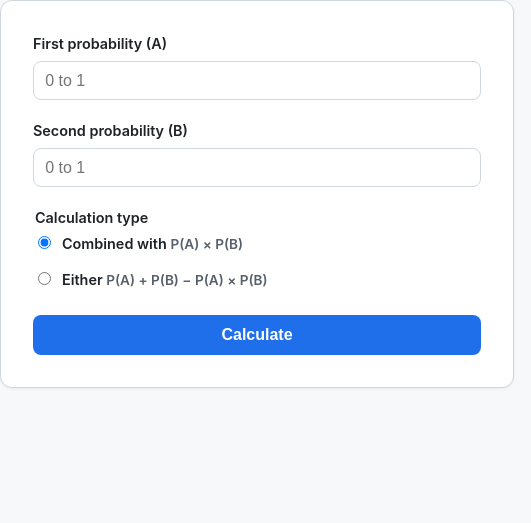
Test: CalculatorForm › clears a previous result when a probability input changes
This screenshot has width=531, height=523.
Type "0.5" into the number field labelled "First probability (A)" at (257, 81), box [33, 61, 481, 100]
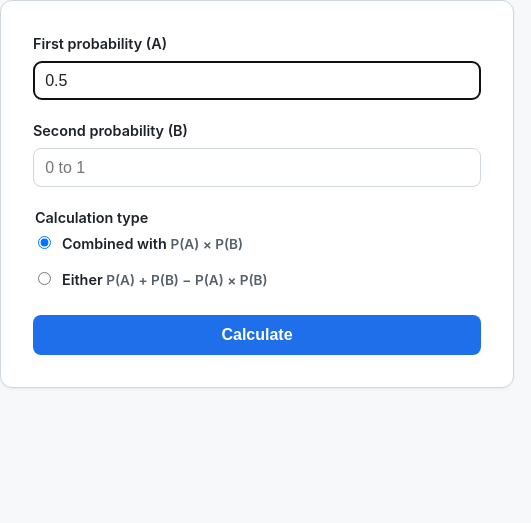
Type "0.4" into the number field labelled "Second probability (B)" at (257, 168), box [33, 148, 481, 187]
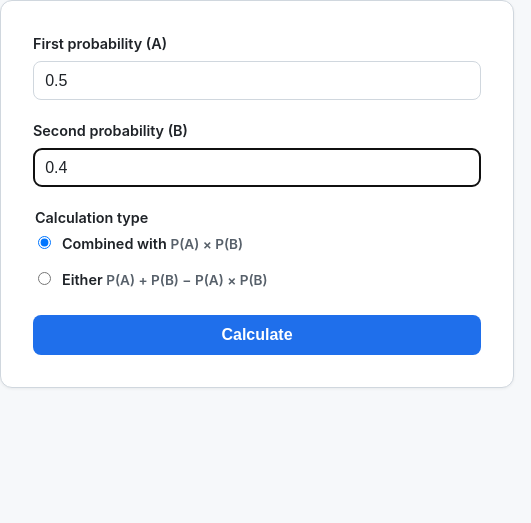
Click the button "Calculate" at (257, 335), box [33, 315, 481, 355]
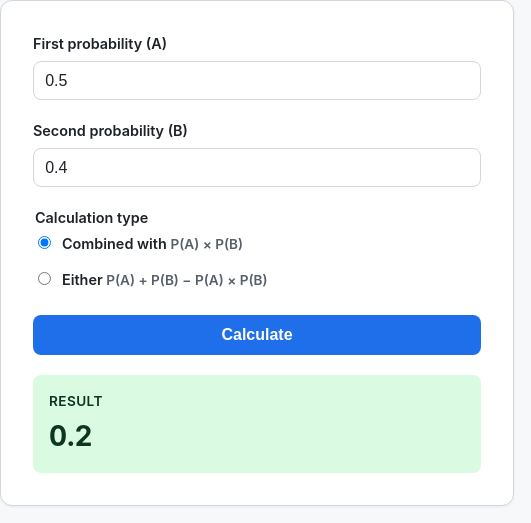
Check: the text "0.2" is shown, box [49, 419, 93, 453]
Type "1" into the number field labelled "First probability (A)" at (257, 81), box [33, 61, 481, 100]
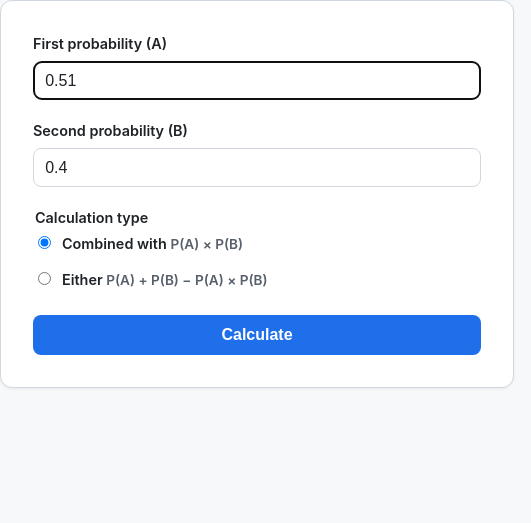
Check: the text "0.2" is gone
